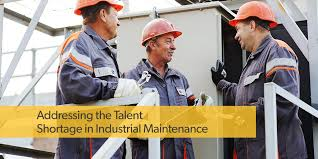Person_wearing_helmet: (229, 0, 277, 29), (139, 17, 183, 47), (73, 0, 122, 19)
